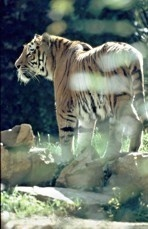tigre: (14, 31, 148, 164)
